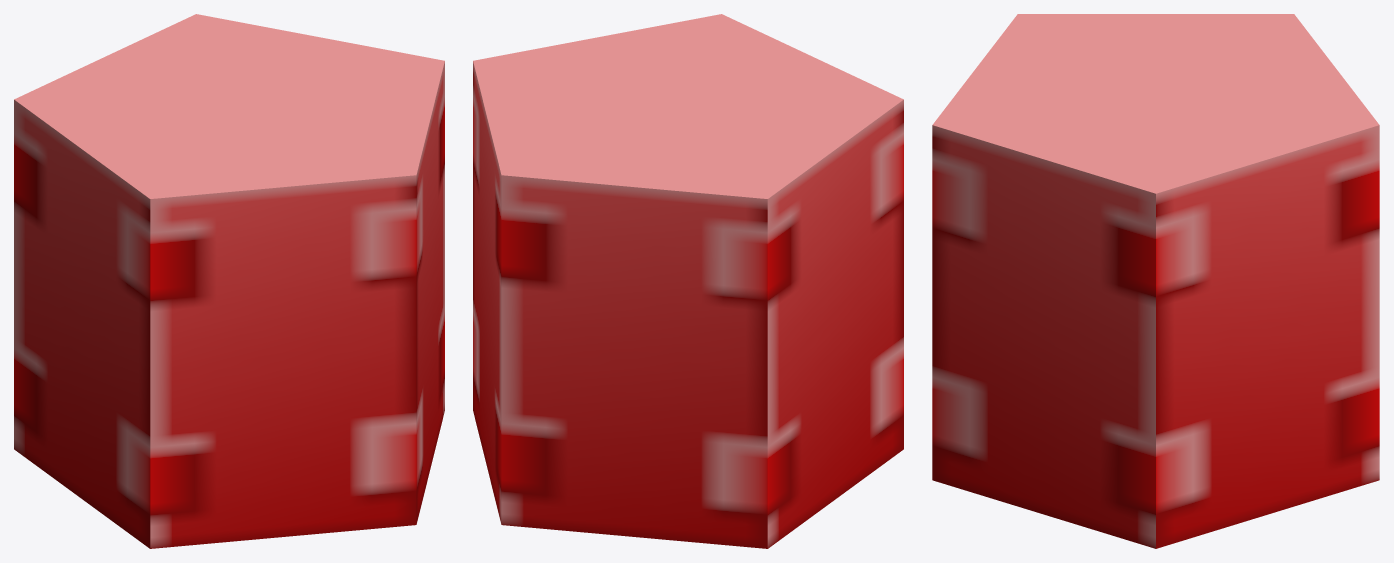
Rendered from keyb.obj.
3 renders of one model, left to right at view 1: azimuth 30°, elevation 25°; view 2: azimuth 150°, elevation 25°; view 3: azimuth 270°, elevation 25°, orthographic.
Parts seen in each view (by area): view 1: ColobotMesh_1_ColobotMesh_; view 2: ColobotMesh_1_ColobotMesh_; view 3: ColobotMesh_1_ColobotMesh_.
Boxes of the visible parts, x1,y1,x2,y2 form: ColobotMesh_1_ColobotMesh_: [14, 14, 444, 548]; ColobotMesh_1_ColobotMesh_: [473, 14, 903, 548]; ColobotMesh_1_ColobotMesh_: [932, 14, 1379, 548].
Size of the model in its own units: 2.17 by 2 by 2.28.
